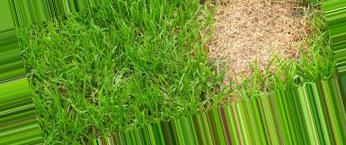patch: (213, 2, 285, 74)
